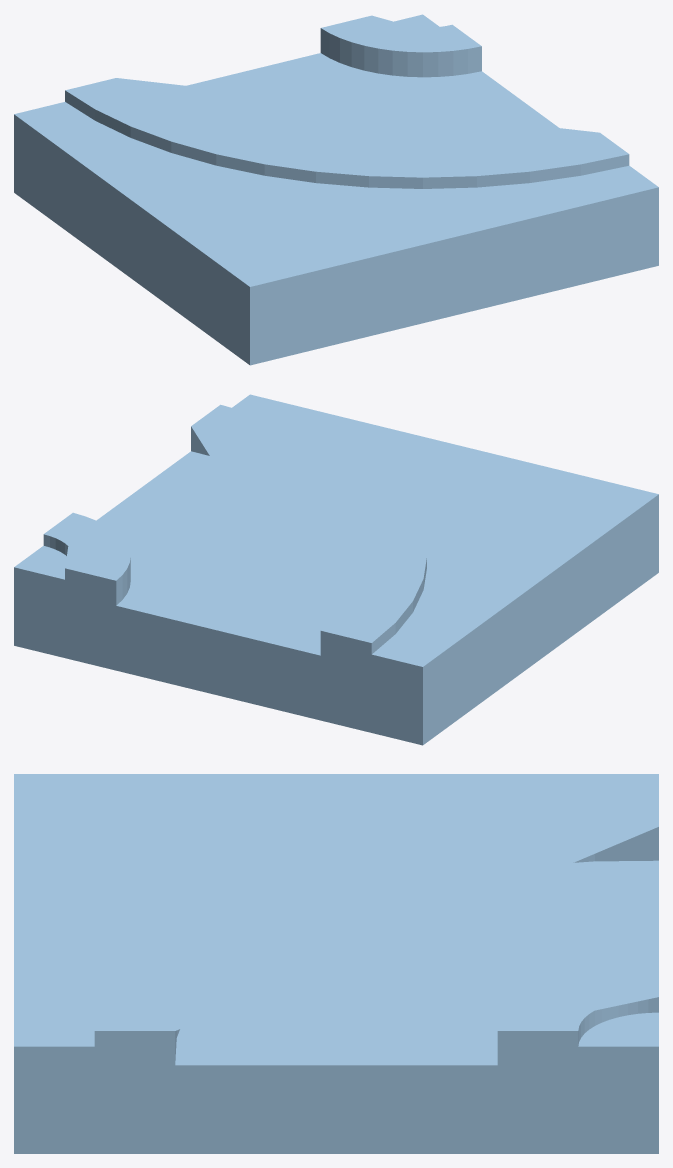
File: roadtile_235.glb
3 renders of one model, top to bottom at view 1: azimuth 30°, elevation 25°; view 2: azimuth 150°, elevation 25°; view 3: azimuth 270°, elevation 25°, orthographic. The views are drawn at different scales.
Visible parts, largest first — view 1: Mesh1 Group1 Model; view 2: Mesh1 Group1 Model; view 3: Mesh1 Group1 Model.
Part boxes in pixels (x1,y1,x2,y2): Mesh1 Group1 Model: (14, 14, 658, 365); Mesh1 Group1 Model: (14, 394, 658, 745); Mesh1 Group1 Model: (14, 774, 658, 1153).
Size of the model in its own units: 3 by 0.63 by 3.
